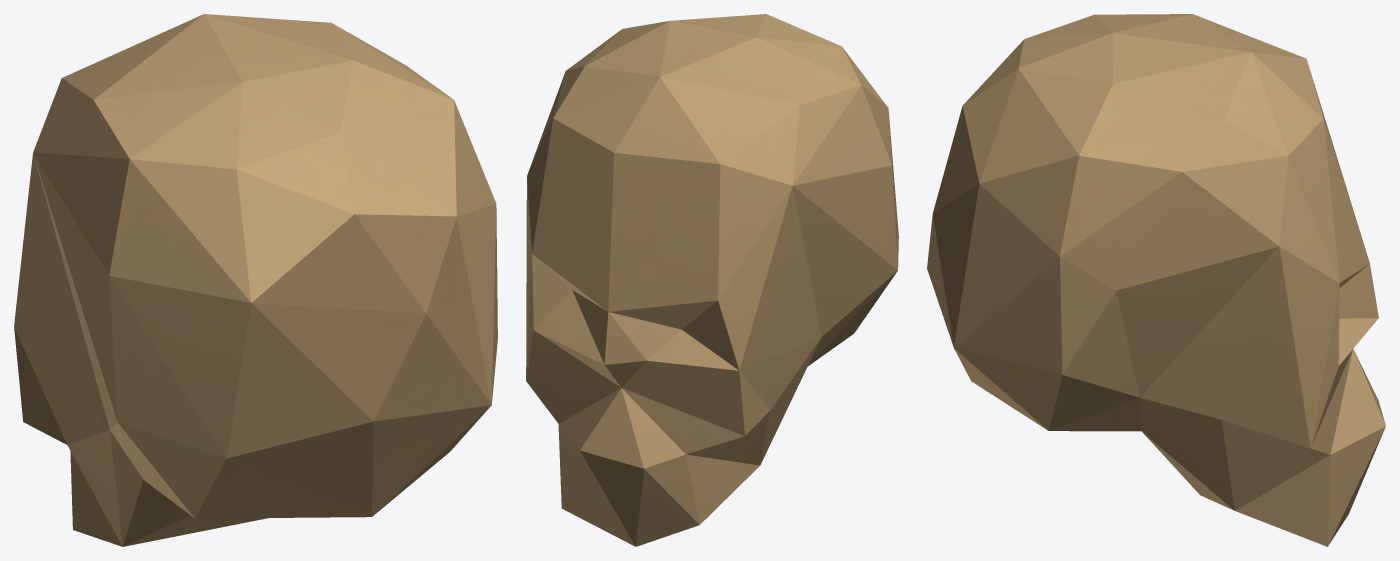
The model's file is Skull_1.fbx.
3 renders of one model, left to right at view 1: azimuth 30°, elevation 25°; view 2: azimuth 150°, elevation 25°; view 3: azimuth 270°, elevation 25°, orthographic. The views are drawn at different scales.
Visible parts, largest first — view 1: Group52997; view 2: Group52997; view 3: Group52997.
Boxes of the visible parts, <box> form: Group52997: <box>14,14,497,546</box>; Group52997: <box>526,14,898,546</box>; Group52997: <box>927,14,1385,546</box>.
Size of the model in its own units: 0.7428 by 1.04 by 0.9125.
